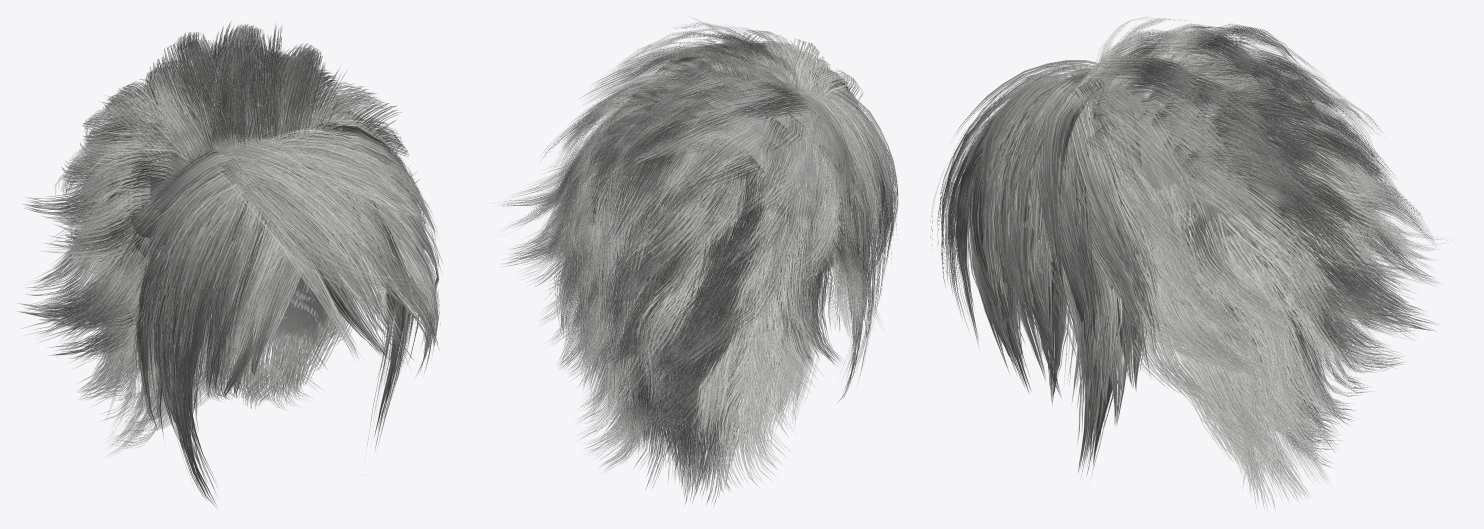
Rendered from hair007.glb.
The picture shows the model from 3 angles, left to right: view 1: azimuth 30°, elevation 25°; view 2: azimuth 150°, elevation 25°; view 3: azimuth 270°, elevation 25°; orthographic projection. The views are drawn at different scales.
Parts seen in each view (by area): view 1: hair, scalp; view 2: hair, scalp; view 3: hair, scalp.
Boxes of the visible parts, x1,y1,x2,y2 form: hair: (17,20,442,507); scalp: (106,91,397,387); hair: (495,20,898,507); scalp: (585,58,858,381); hair: (930,17,1452,510); scalp: (1044,61,1335,403).
Size of the model in its own units: 0.2206 by 0.2267 by 0.2397.
2 materials, 2 textured.
